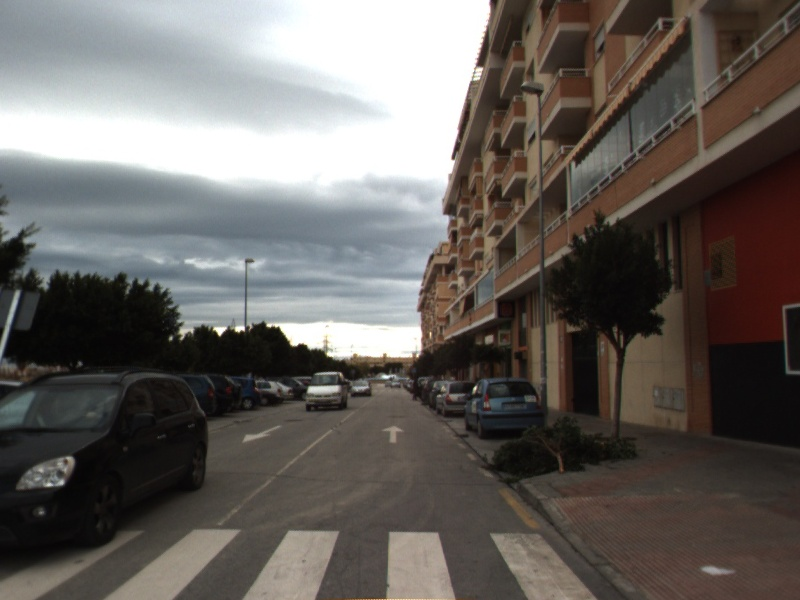STRAIGHT: (379, 423, 407, 445)
